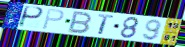8: (120, 16, 140, 40)
9: (142, 19, 163, 41)
B: (67, 10, 94, 35)
P: (17, 5, 45, 28), (41, 8, 66, 30)
T: (97, 14, 116, 36)
